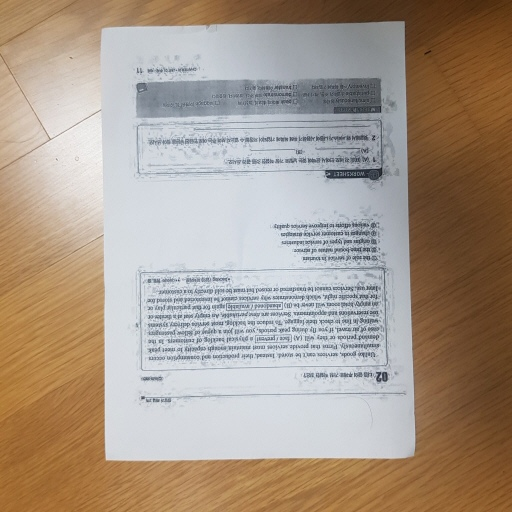Paper_2: (90, 8, 434, 476)
